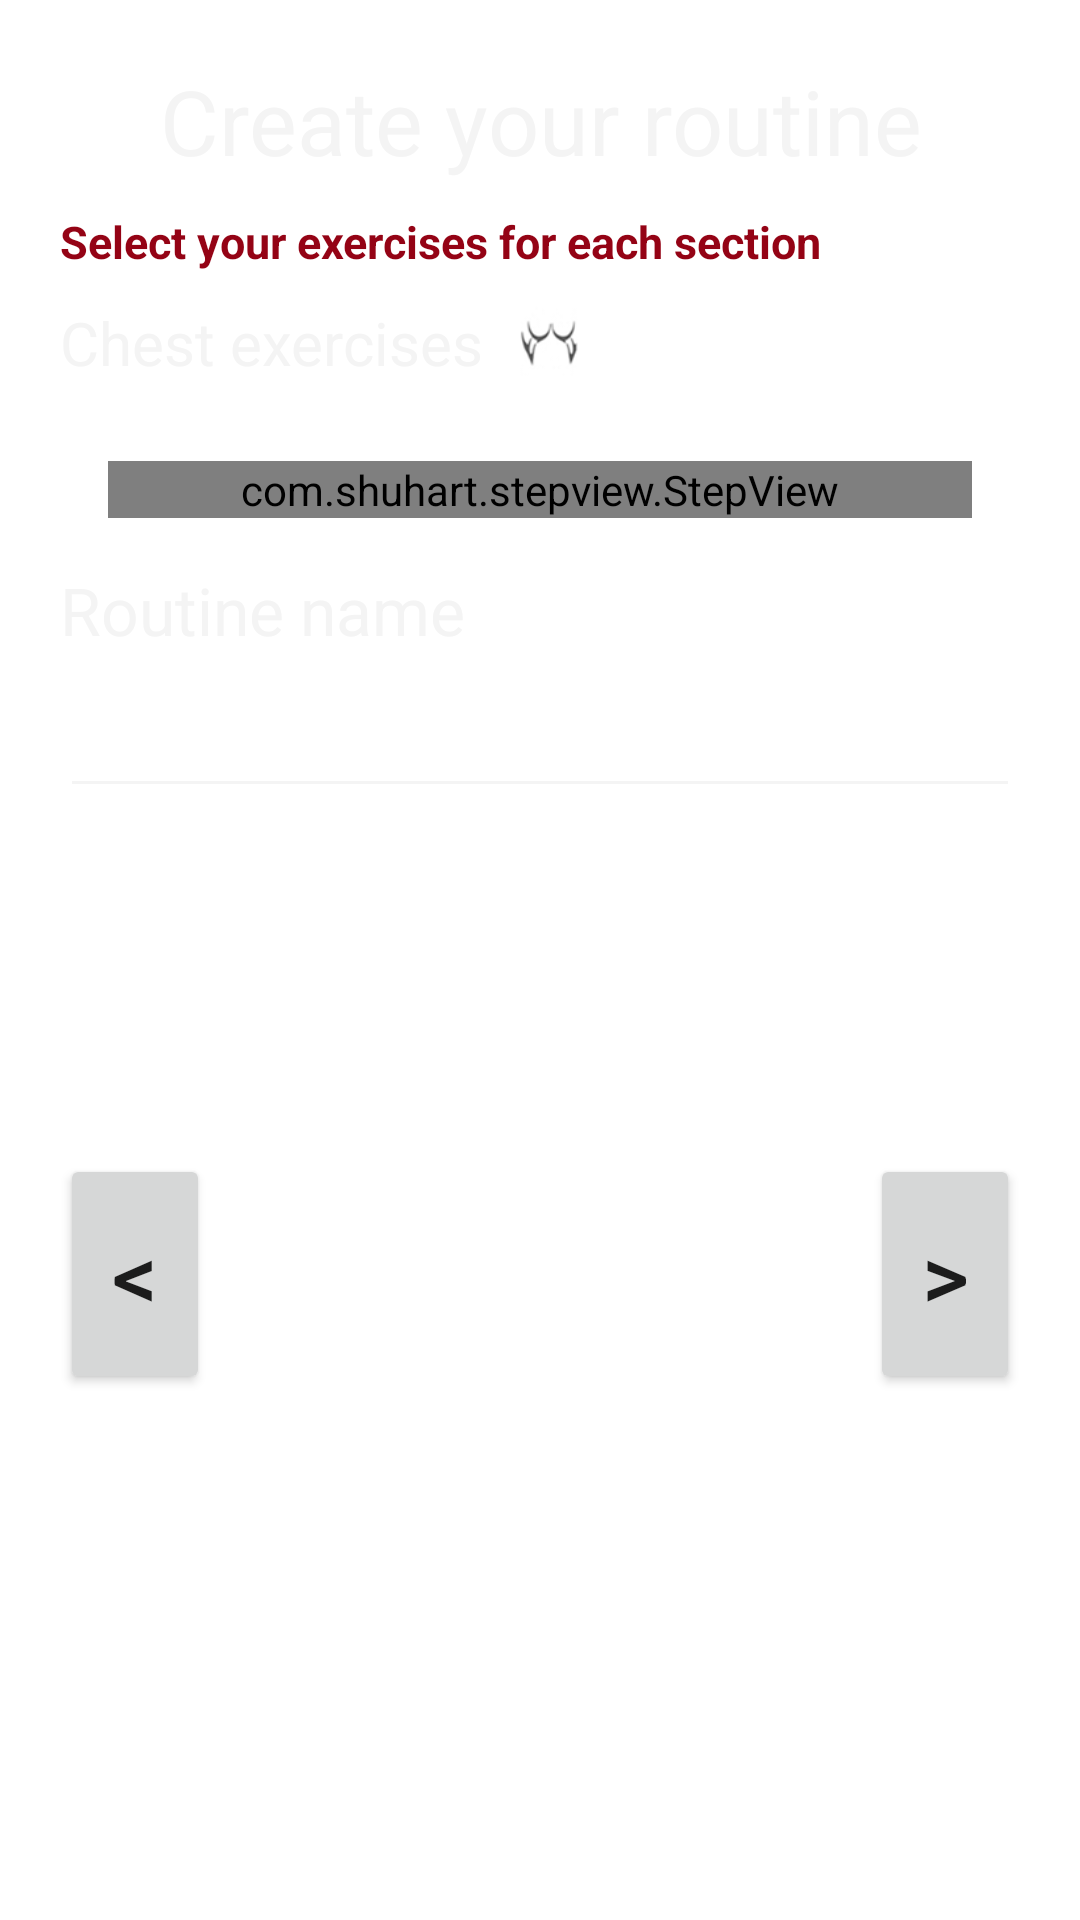

Named icons in this screenshot (1080*1920) and their centers, (x,y):
pecho category: (549,343)
